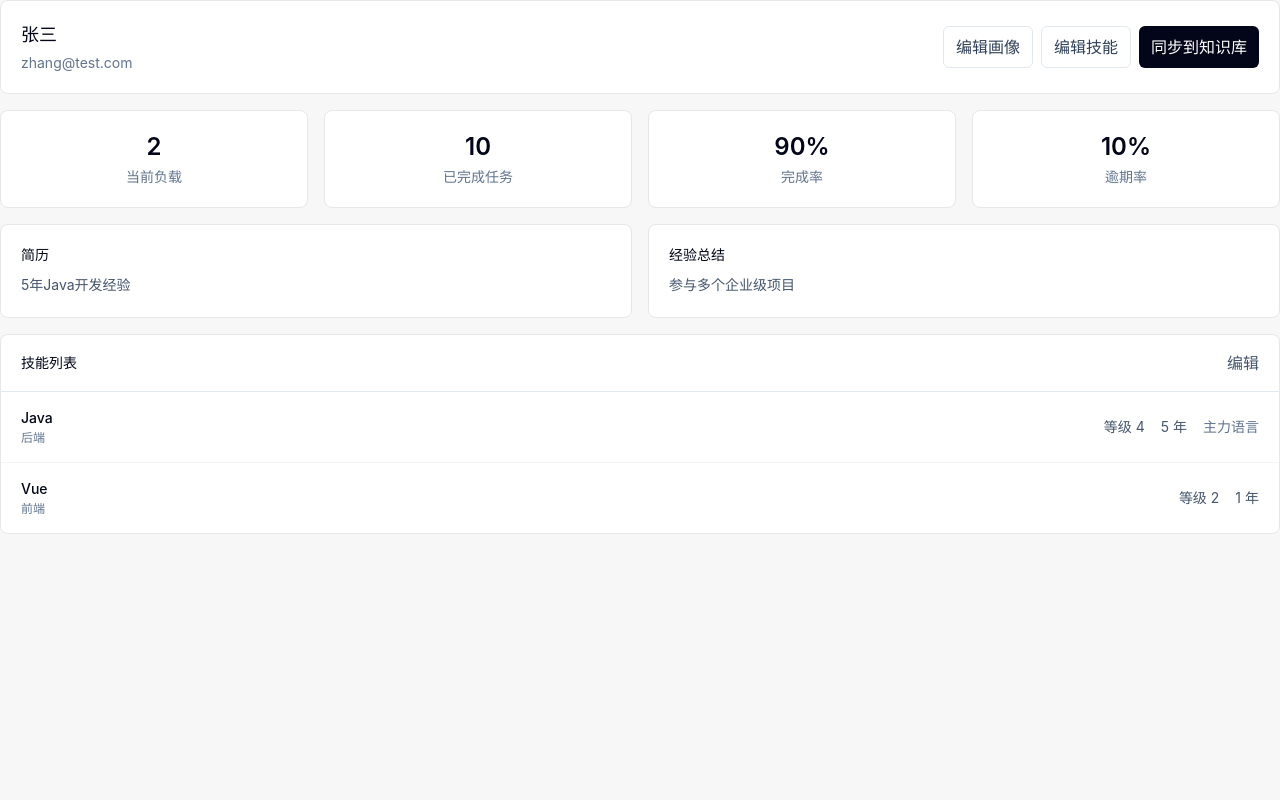
Test: MemberProfileView › shows error when sync fails
This screenshot has width=1280, height=800.
Click the button "同步到知识库": {"x": 1199, "y": 47} [1139,26,1259,68]
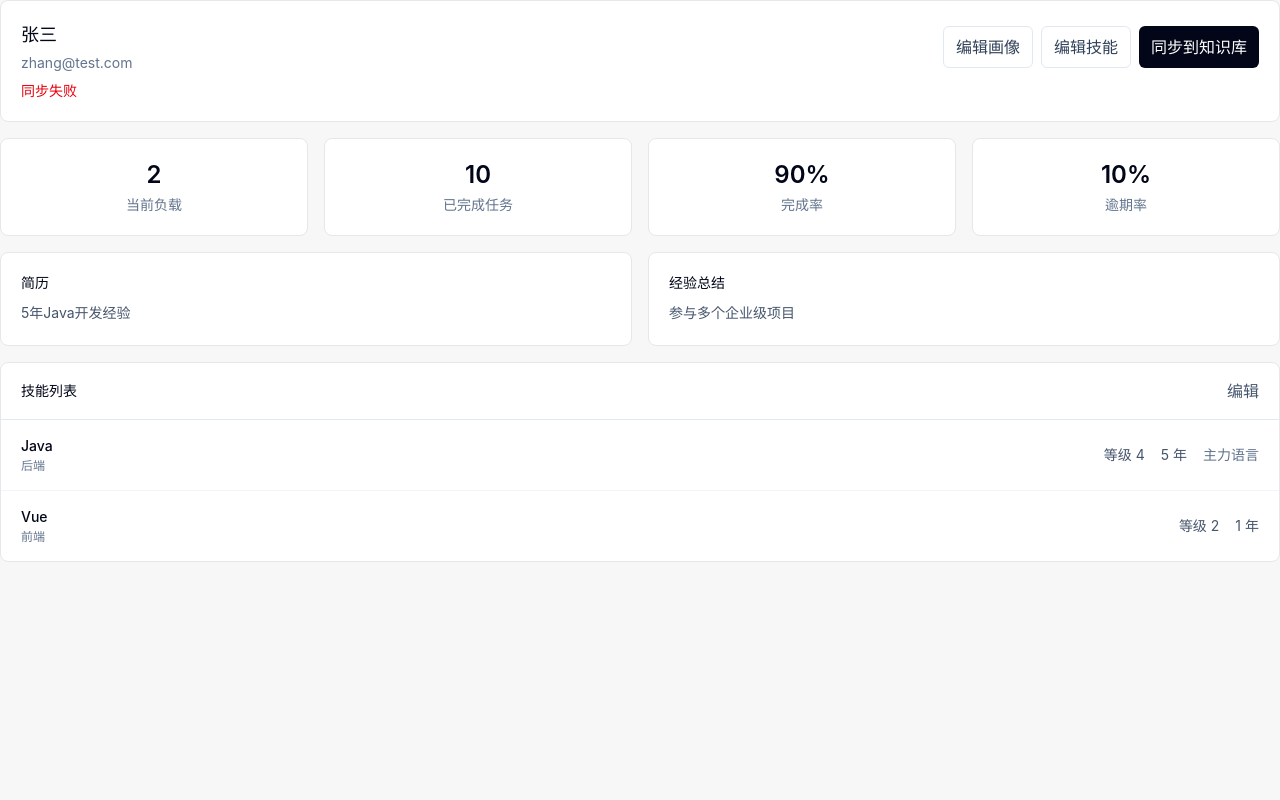
Expected: the text "同步失败" is shown, [21,82,77,99]
